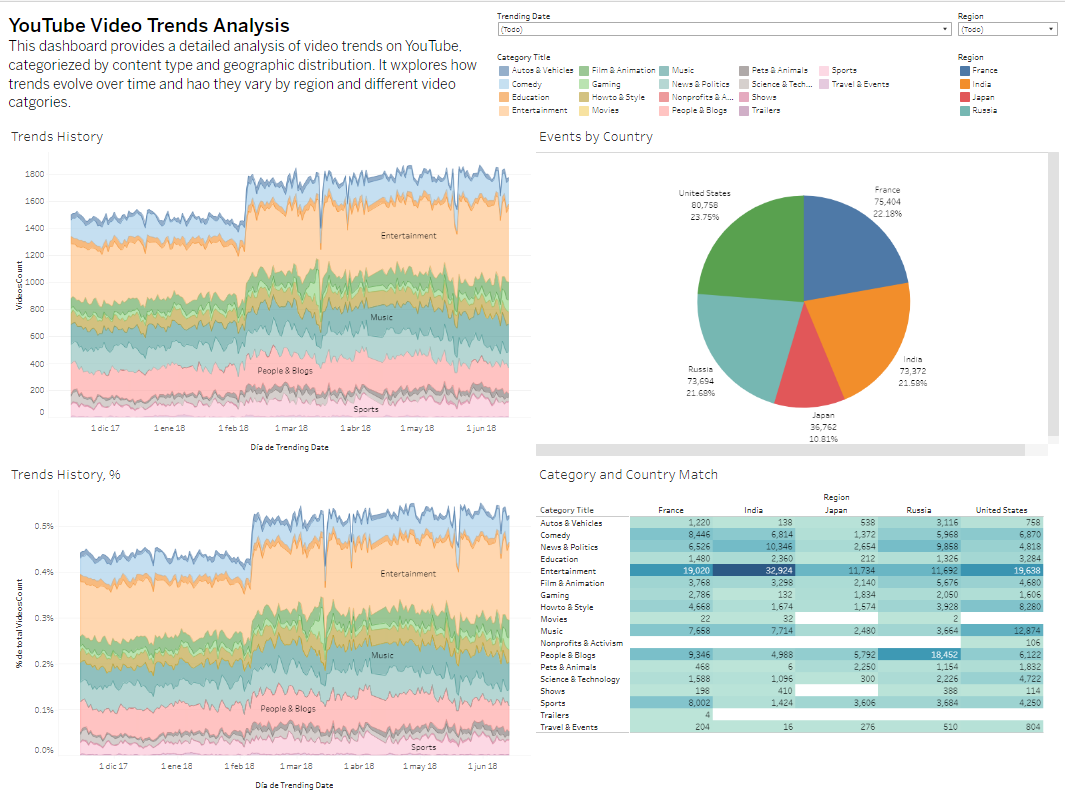

Layout of this report page (visuals, bound fields, positions):
{"tool":"tableau","page":{"name":"Dashboard","canvas":[1600,1200],"ordinal":0},"visuals":[{"type":"text","box":[8,8,733,170]},{"type":"filter","title":"Historial de tendencias","param":"[federated.0hgtnp91pxahze1cmmmkk0k28f38].[none:trending_date:ok]","box":[741,8,691,62]},{"type":"filter","title":"Historial de tendencias","param":"[federated.0hgtnp91pxahze1cmmmkk0k28f38].[none:region:nk]","box":[1432,8,160,62]},{"type":"legend","title":"Historial de tendencias","param":"[federated.0hgtnp91pxahze1cmmmkk0k28f38].[none:category_title:nk]","box":[741,70,691,108]},{"type":"legend","title":"Eventos por país","param":"[federated.0hgtnp91pxahze1cmmmkk0k28f38].[none:region:nk]","box":[1432,70,160,108]},{"type":"worksheet","title":"Historial de tendencias","mark":"Area","rows":["videos_count"],"cols":["trending_date"],"box":[8,178,792,507]},{"type":"worksheet","title":"Eventos por país","mark":"Pie","box":[800,178,792,507]},{"type":"worksheet","title":"Historial de tendencias, %","mark":"Area","rows":["videos_count"],"cols":["trending_date"],"box":[8,685,792,507]},{"type":"worksheet","title":"Correspondencia entre categorías y países","mark":"Square","rows":["category_title"],"cols":["region"],"box":[800,685,792,507]}]}

Visuals, with their boxes in screenshot pixels (x1, y1, x2, y2), scaled from the page's 1600x1200 canvas onto the 1065x801 screenshot:
text: crop(5, 5, 493, 119)
"Historial de tendencias" filter: crop(493, 5, 953, 47)
"Historial de tendencias" filter: crop(953, 5, 1060, 47)
"Historial de tendencias" legend: crop(493, 47, 953, 119)
"Eventos por país" legend: crop(953, 47, 1060, 119)
"Historial de tendencias" worksheet (Area marks): crop(5, 119, 532, 457)
"Eventos por país" worksheet (Pie marks): crop(532, 119, 1060, 457)
"Historial de tendencias, %" worksheet (Area marks): crop(5, 457, 532, 796)
"Correspondencia entre categorías y países" worksheet (Square marks): crop(532, 457, 1060, 796)
